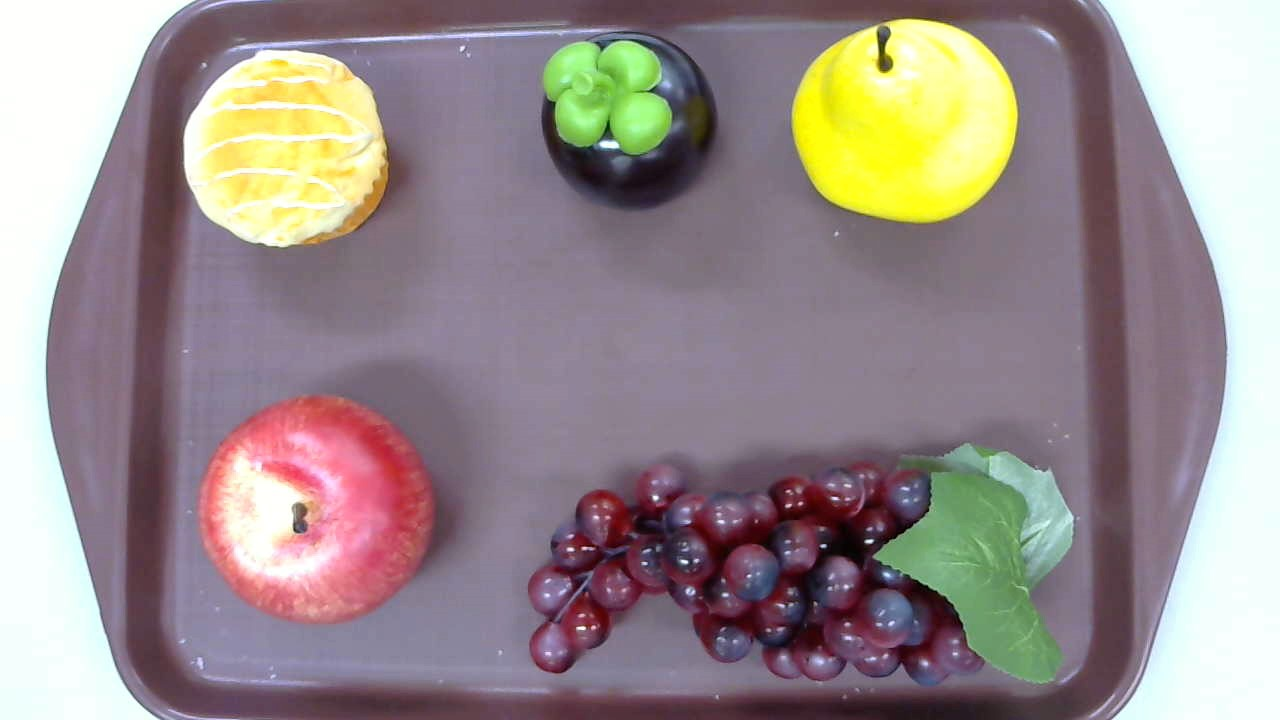cupcake: (183, 48, 389, 247)
grape: (527, 440, 1073, 683)
mangosteen: (541, 31, 717, 213)
red apple: (198, 393, 436, 626)
yellow pear: (791, 18, 1019, 222)
